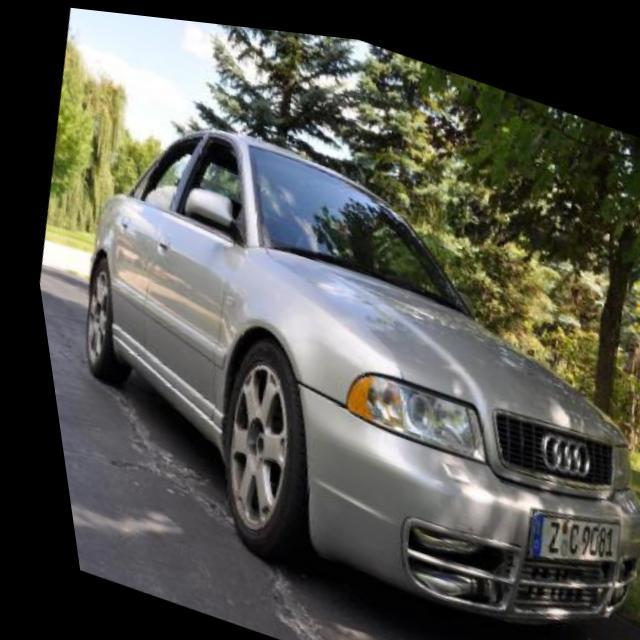license_plate: (506, 478, 615, 576)
